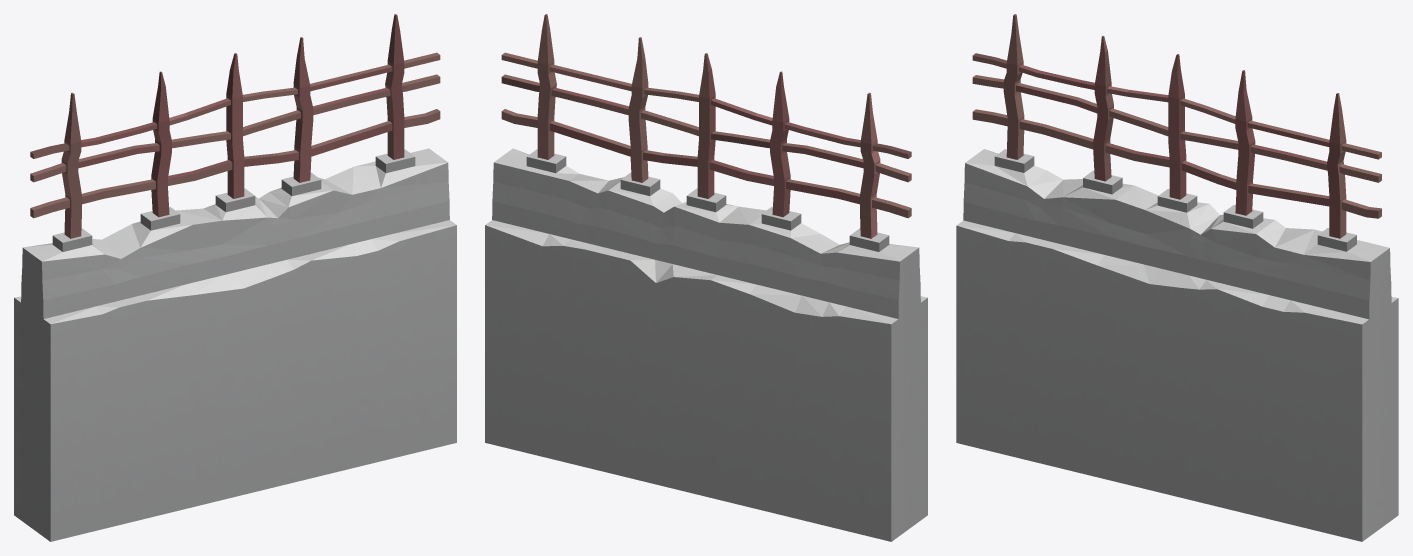
The model's file is wall_spiked.dae.
3 renders of one model, left to right at view 1: azimuth 30°, elevation 25°; view 2: azimuth 150°, elevation 25°; view 3: azimuth 330°, elevation 25°, orthographic.
Visible parts, largest first — view 1: wall_spiked; view 2: wall_spiked; view 3: wall_spiked.
Boxes of the visible parts, left/top/right/bottom form: wall_spiked: left=14, top=14, right=456, bottom=541; wall_spiked: left=485, top=14, right=927, bottom=541; wall_spiked: left=956, top=14, right=1398, bottom=541.
Size of the model in its own units: 2 by 0.3103 by 2.
